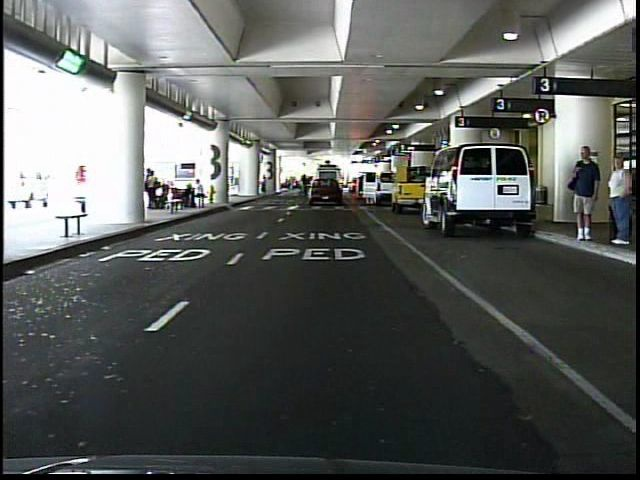person: (566, 144, 601, 245), (603, 153, 636, 248), (260, 170, 272, 195)
